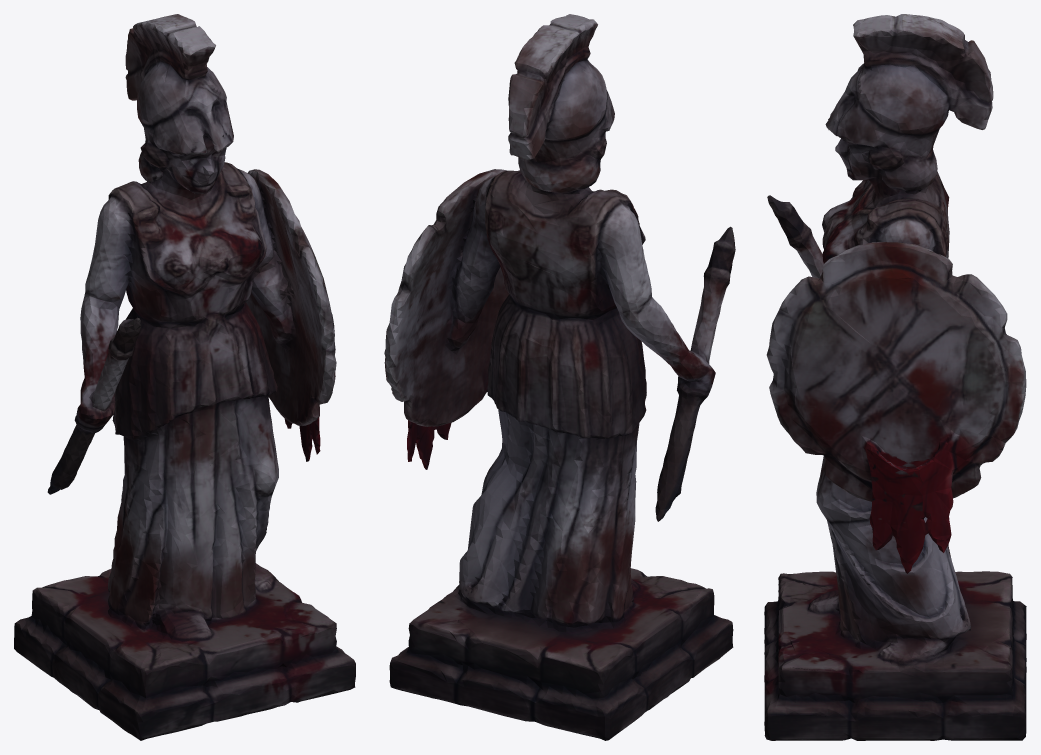
File: statusAthena_LOD1.glb
The picture shows the model from 3 angles, left to right: view 1: azimuth 30°, elevation 25°; view 2: azimuth 150°, elevation 25°; view 3: azimuth 270°, elevation 25°; orthographic projection. The views are drawn at different scales.
Bounding box in the file's own units: 0.427 × 1 × 0.3576.
1 material, 1 textured.
